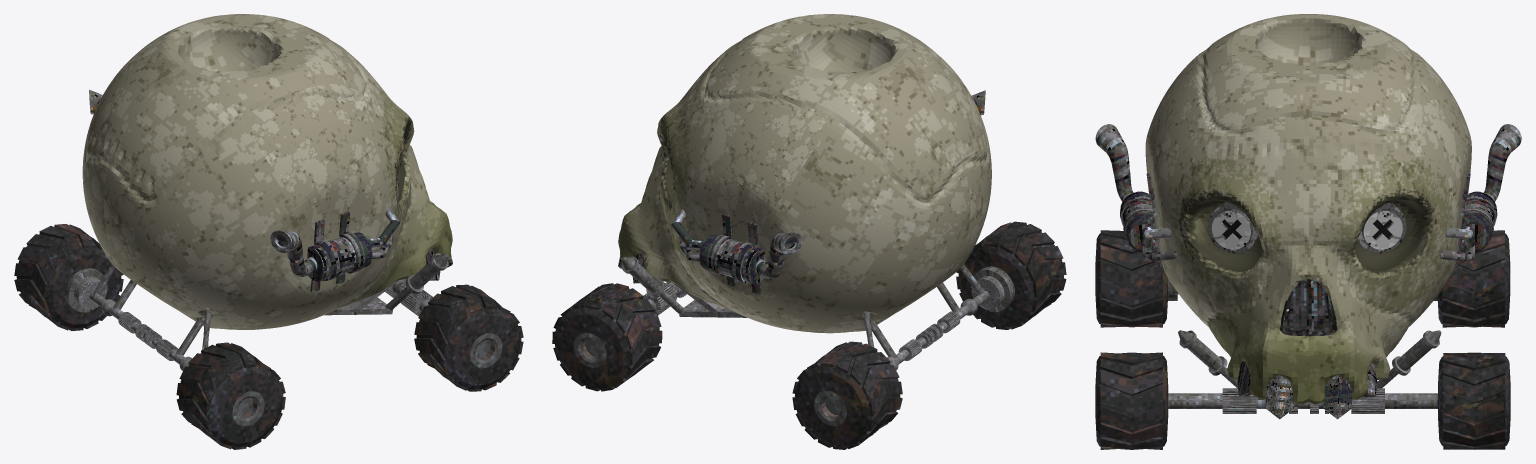
File: enemy_empty_parent.fbx
3 renders of one model, left to right at view 1: azimuth 30°, elevation 25°; view 2: azimuth 150°, elevation 25°; view 3: azimuth 270°, elevation 25°, orthographic. The views are drawn at different scales.
Visible parts, largest first — view 1: hoved, hjul_b2, Hjul_f2, hjul_b1, bund, udstødning; view 2: hoved, hjul_f1, hjul_b1, hjul_b2, bund, udstødning.001; view 3: hoved, Hjul_f2, hjul_f1, bund, hjul_b2, hjul_b1, udstødning, udstødning.001, Cube.002, øje2, øje1.
Boxes of the visible parts, x1,y1,x2,y2 form: hoved: (82, 14, 452, 329); hjul_b2: (176, 342, 285, 449); Hjul_f2: (414, 284, 523, 391); hjul_b1: (14, 224, 123, 330); bund: (65, 253, 448, 370); udstødning: (270, 207, 399, 291); hoved: (618, 14, 991, 333); hjul_f1: (552, 283, 662, 391); hjul_b1: (792, 341, 902, 449); hjul_b2: (956, 221, 1066, 329); bund: (621, 256, 1014, 370); udstødning.001: (671, 209, 802, 294); hoved: (1145, 14, 1471, 404); Hjul_f2: (1095, 352, 1168, 449); hjul_f1: (1438, 352, 1510, 449); bund: (1167, 278, 1441, 413); hjul_b2: (1095, 230, 1167, 327); hjul_b1: (1437, 230, 1510, 327); udstødning: (1095, 124, 1177, 266); udstødning.001: (1440, 124, 1521, 266); Cube.002: (1237, 361, 1377, 419); øje2: (1208, 202, 1258, 253); øje1: (1357, 203, 1406, 253).
Size of the model in its own units: 310 by 273 by 325.
